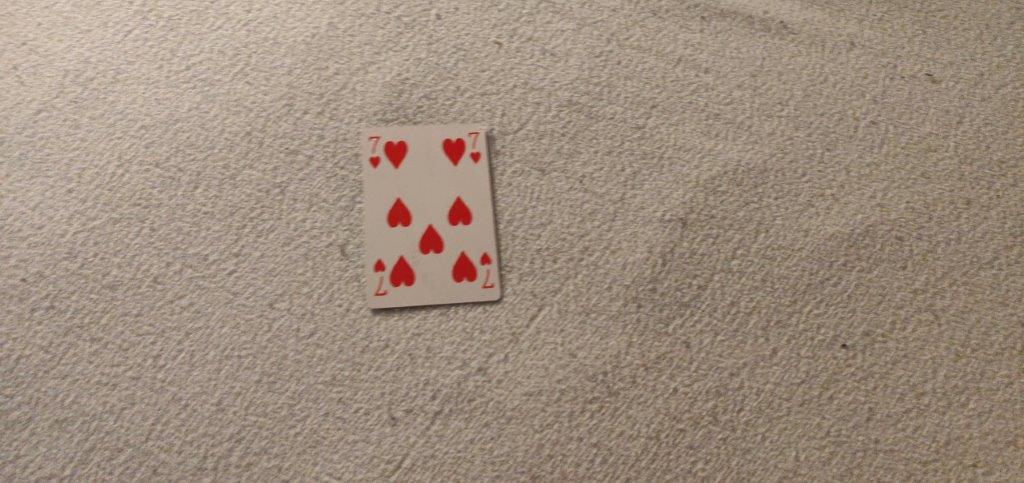7H: (363, 130, 385, 176), (465, 129, 486, 167)
